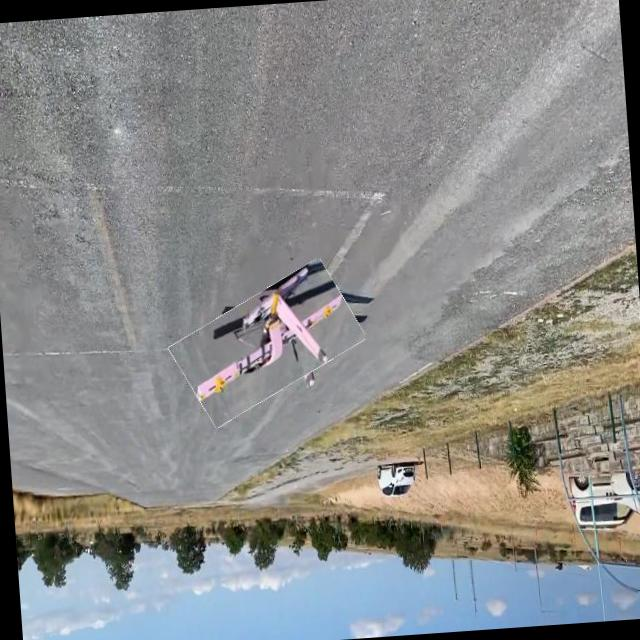UAV: (208, 270, 354, 399)
